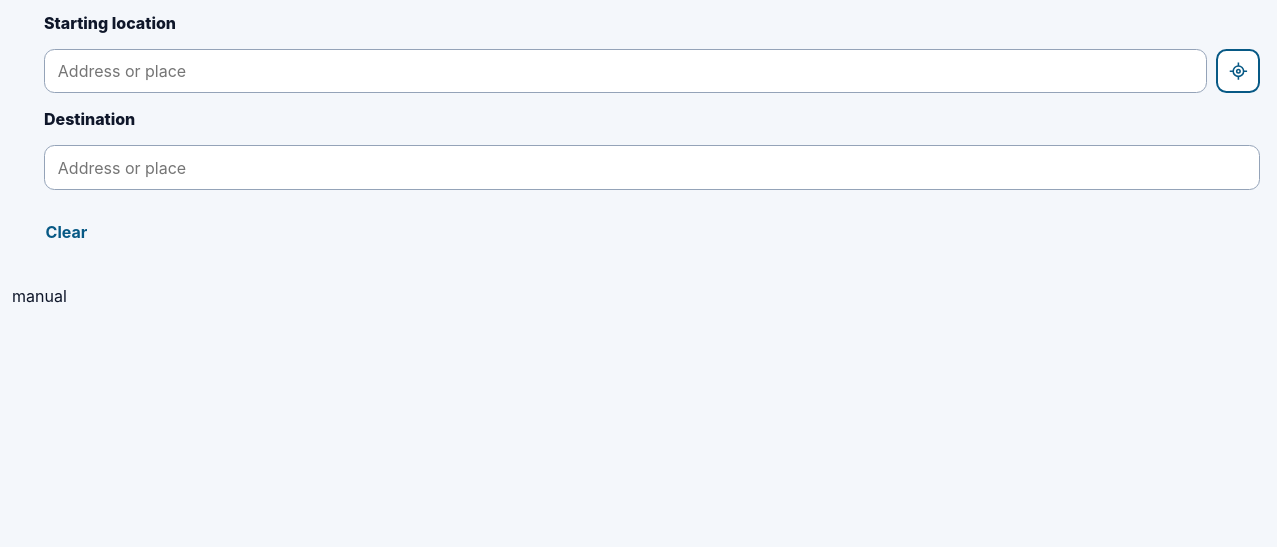
TripPlanner › uses the device button and switches to manual as soon as the starting field is edited
Step 1. Click the button named "Use my location" → click(1238, 71), box 1216,49 -> 1260,93
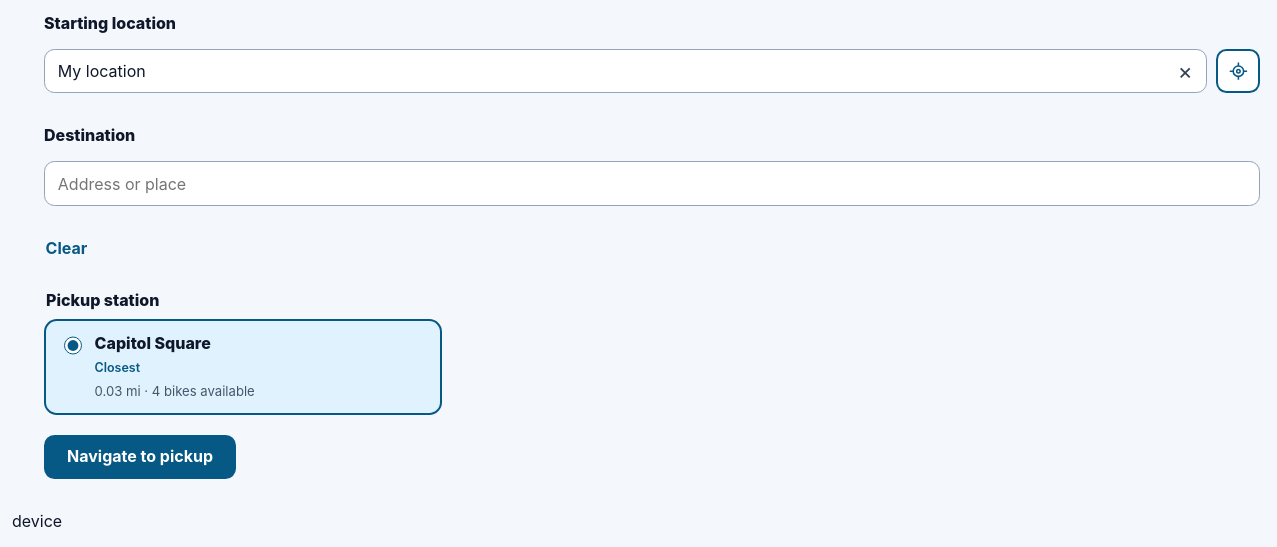
Expected: the text named "Origin source" reads "device", 12,511 -> 62,531
Expected: the dropdown labelled "Starting location" holds "My location"
Expected: the button "Navigate to pickup" is shown, 44,435 -> 236,479
Step 2. Replace the text in the dropdown labelled "Starting location" with "New address" → (626, 71), box 44,49 -> 1207,93
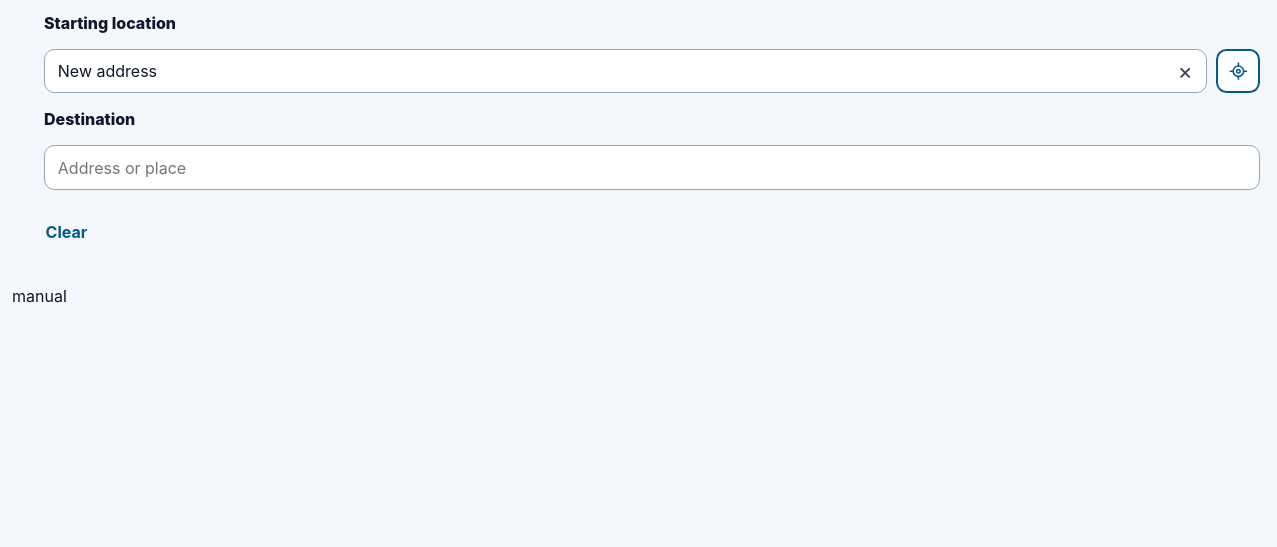
Expected: the text named "Origin source" reads "manual", 12,286 -> 67,306
Expected: the button "Navigate to pickup" is gone
